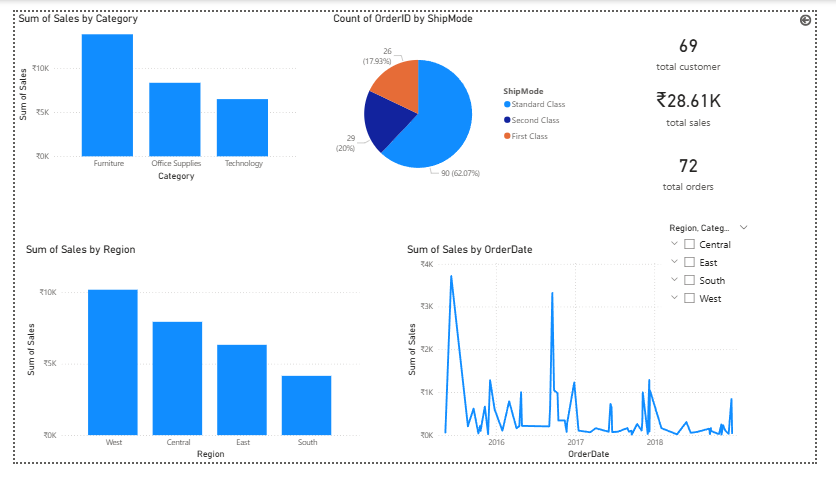

The dashboard page shown, as its layout file describes it:
{"tool":"powerbi","page":{"name":"Page 1","canvas":[1280,720],"ordinal":0},"visuals":[{"type":"clusteredColumnChart","fields":{"Y":["Sum(new1.Sales)"],"Category":["new1.Category"]},"box":[0,0,457.8,274.9],"z":0},{"type":"clusteredColumnChart","fields":{"Y":["Sum(new1.Sales)"],"Category":["new1.Region"]},"box":[12,369,544,351],"z":1000},{"type":"pieChart","fields":{"Category":["new1.ShipMode"],"Y":["CountNonNull(new1.OrderID)"]},"box":[503.8,0,390.6,307.3],"z":2000},{"type":"lineChart","fields":{"Category":["new1.OrderDate"],"Y":["Sum(new1.Sales)"]},"box":[622,369.5,543.6,350.8],"z":3000},{"type":"card","fields":{"Values":["Count(new1.CustomerID)"]},"box":[903.1,26.1,347.1,73.4],"z":4000},{"type":"actionButton","box":[0,0,100,40],"z":5000},{"type":"card","fields":{"Values":["Sum(new1.Sales)"]},"box":[903.1,99.5,347.1,103.2],"z":6000},{"type":"card","fields":{"Values":["Count(new1.OrderID)"]},"box":[903.1,202.8,347.1,104.5],"z":7000},{"type":"slicer","fields":{"Values":["new1.Region","new1.Category","new1.ShipMode"]},"box":[1033.7,332.1,150.5,148],"z":7001}]}

Visuals, with their boxes in screenshot pixels (x1, y1, x2, y2), scaled from the page's 1280x720 canvas onto the 836x481 screenshot:
clusteredColumnChart - Sum(new1.Sales) x new1.Category: (left=0, top=0, right=299, bottom=184)
clusteredColumnChart - Sum(new1.Sales) x new1.Region: (left=8, top=247, right=363, bottom=480)
pieChart - new1.ShipMode x CountNonNull(new1.OrderID): (left=329, top=0, right=584, bottom=205)
lineChart - new1.OrderDate x Sum(new1.Sales): (left=406, top=247, right=761, bottom=480)
card - Count(new1.CustomerID): (left=590, top=17, right=817, bottom=66)
actionButton: (left=0, top=0, right=65, bottom=27)
card - Sum(new1.Sales): (left=590, top=66, right=817, bottom=135)
card - Count(new1.OrderID): (left=590, top=135, right=817, bottom=205)
slicer - new1.Region x new1.Category: (left=675, top=222, right=773, bottom=321)
